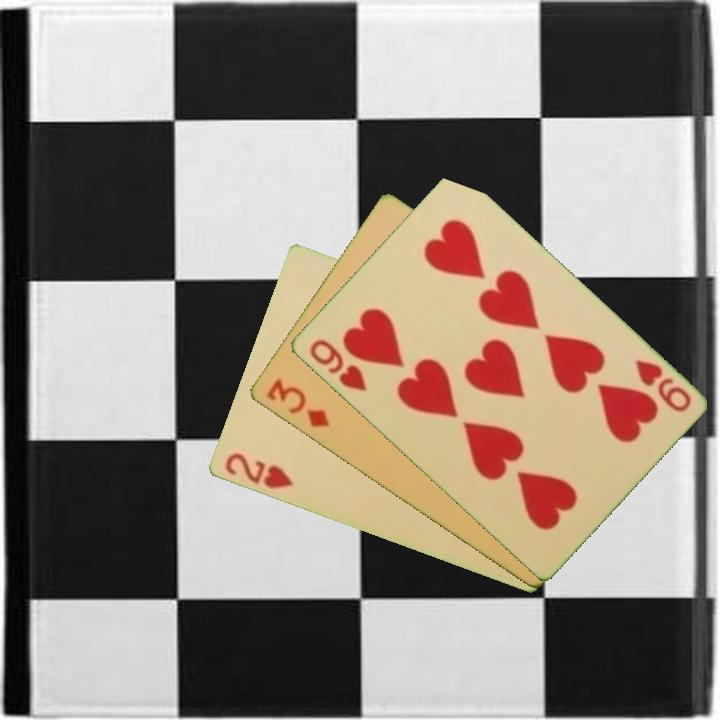2h: (220, 449, 296, 492)
3d: (262, 375, 332, 431)
9h: (305, 335, 369, 395), (631, 356, 694, 415)
